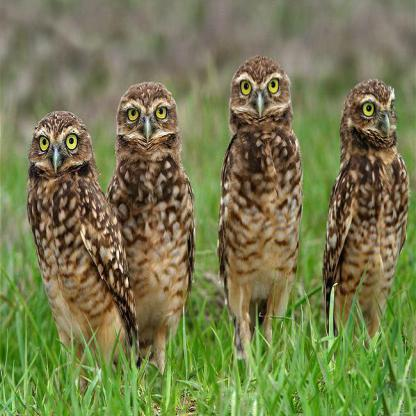owl: (117, 0, 302, 415), (18, 41, 209, 415), (227, 53, 402, 415), (322, 32, 416, 415)
